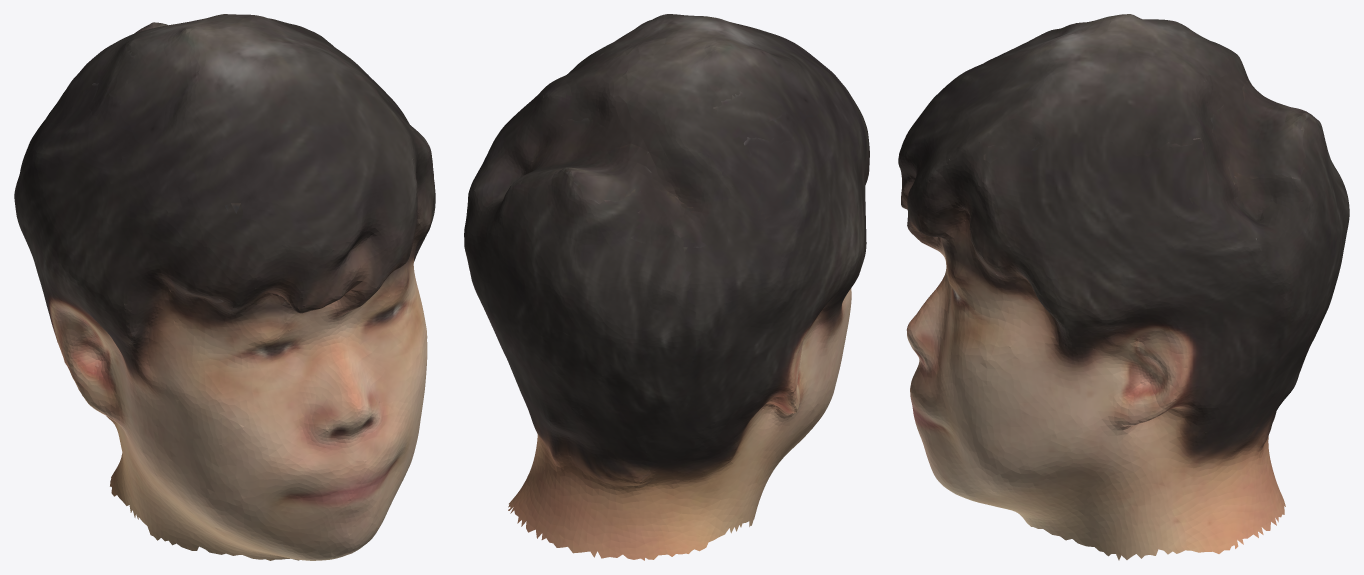
Rendered from Tsutiya.fbx.
The picture shows the model from 3 angles, left to right: view 1: azimuth 30°, elevation 25°; view 2: azimuth 150°, elevation 25°; view 3: azimuth 270°, elevation 25°; orthographic projection. The views are drawn at different scales.
Parts seen in each view (by area): view 1: 32125883-06-raw; view 2: 32125883-06-raw; view 3: 32125883-06-raw.
Part boxes in pixels (x1,y1,x2,y2): 32125883-06-raw: (14, 14, 435, 560); 32125883-06-raw: (464, 14, 869, 560); 32125883-06-raw: (898, 14, 1349, 560).
Bounding box in the file's own units: 2099 × 2884 × 2483.
